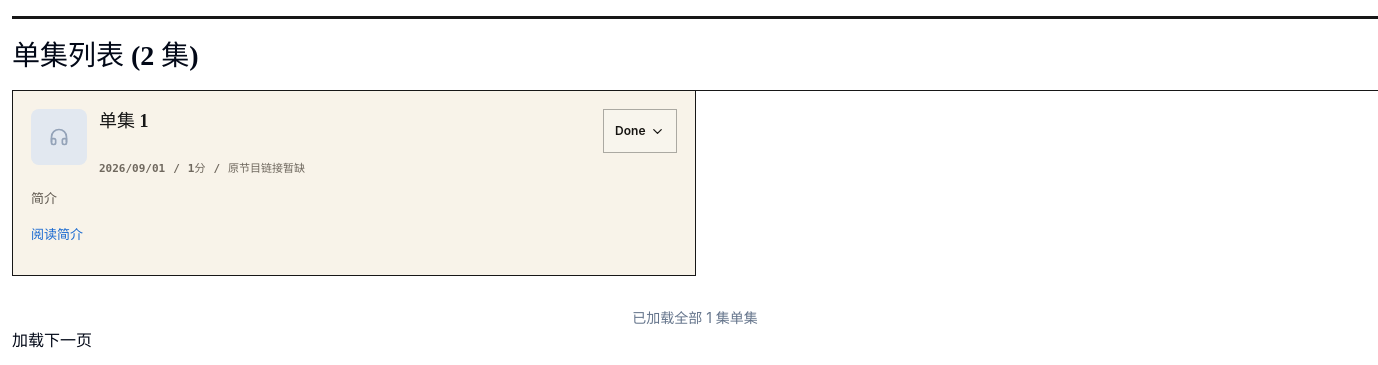
Test: episode list action queue flow › offers only other action queues and labels Done moves as reprocessing
Click the button "Done" at point(640, 131), box 603,109 -> 676,153
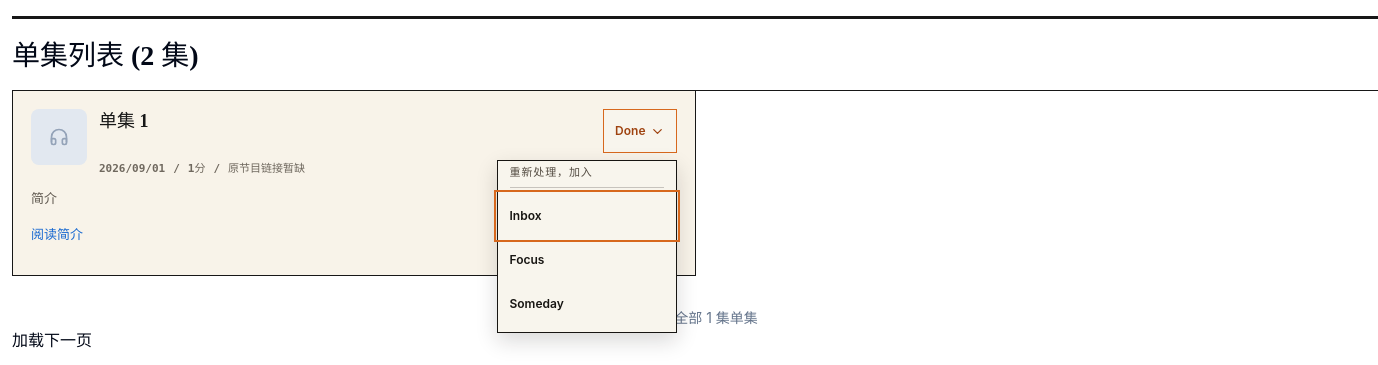
Now the menu "重新处理，加入" is shown, box 496,160 -> 676,333
Click the menu item "Inbox" at point(586, 216), box 498,194 -> 676,238
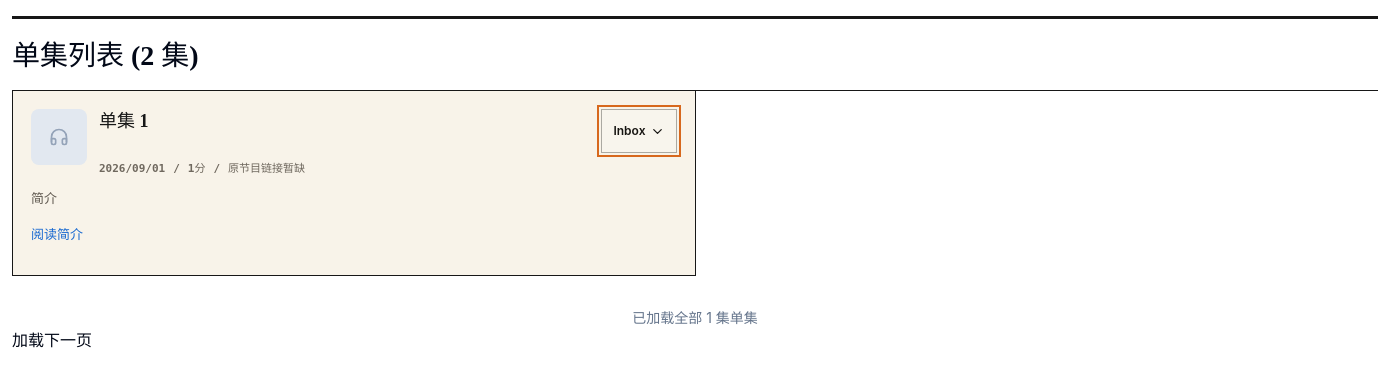
Click the button with aria-label "Inbox，单集 1，打开队列菜单" at point(639, 131), box 602,109 -> 676,153
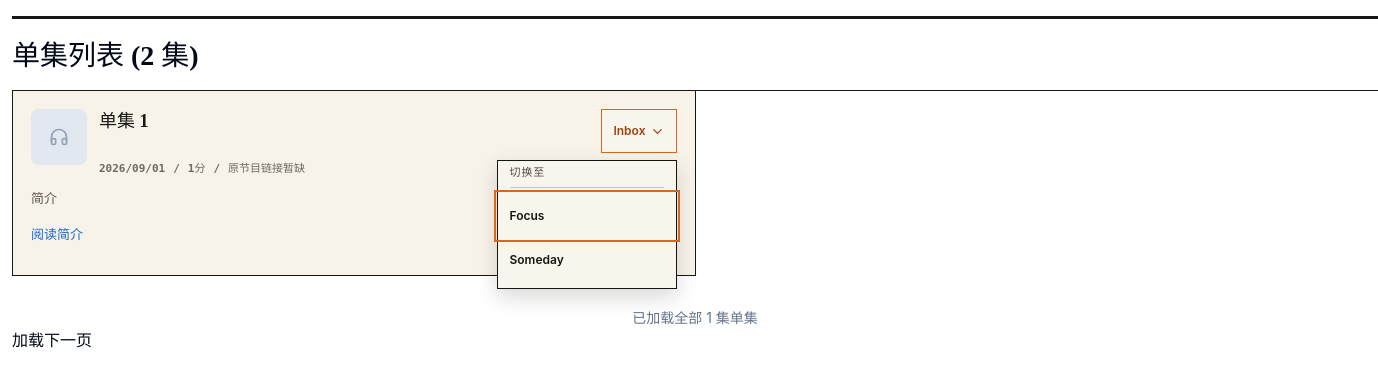
Now the number of menu items is 2, box 498,194 -> 676,238; 498,238 -> 676,282
